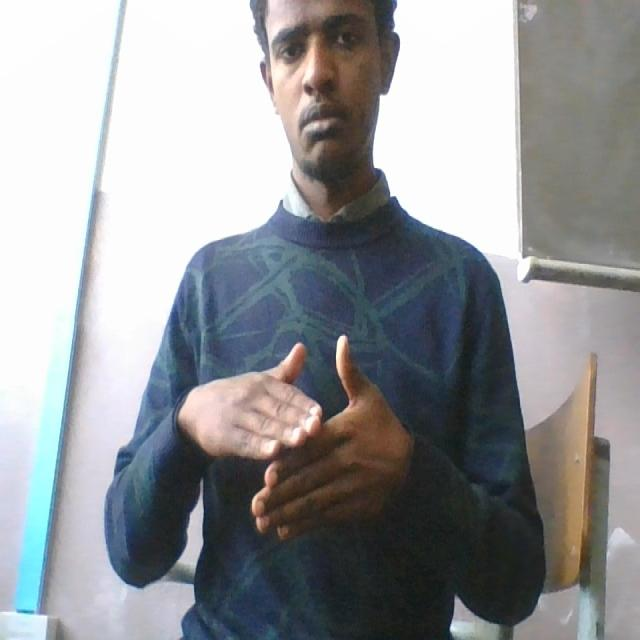tadya: (178, 329, 406, 546)
